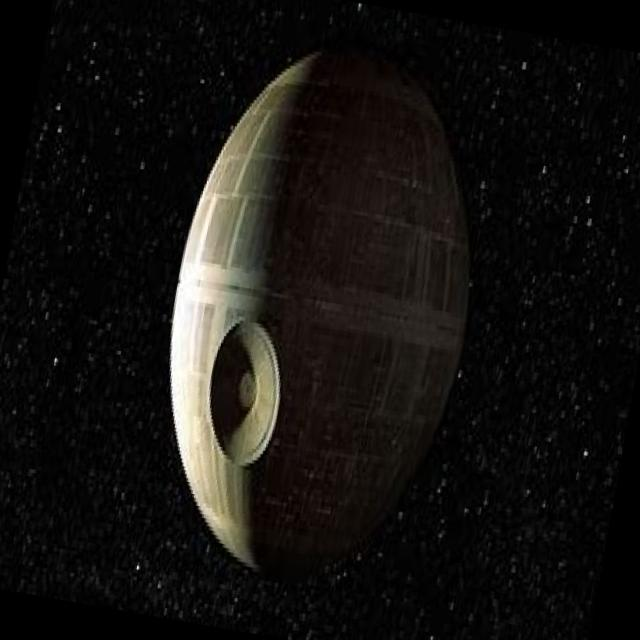Death Star: (123, 18, 514, 614)
